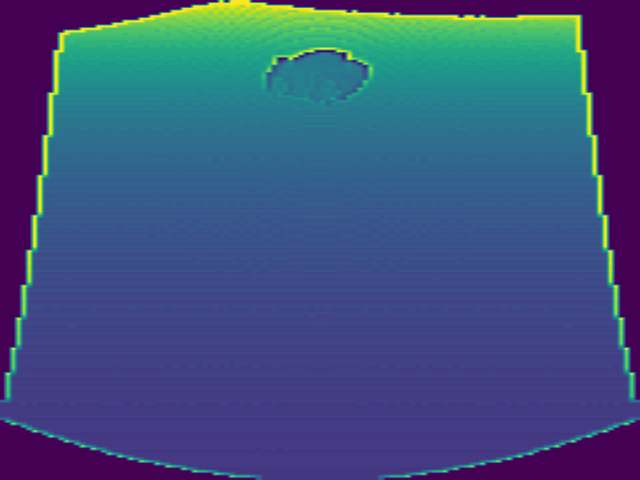car_0027: (259, 47, 374, 108)
